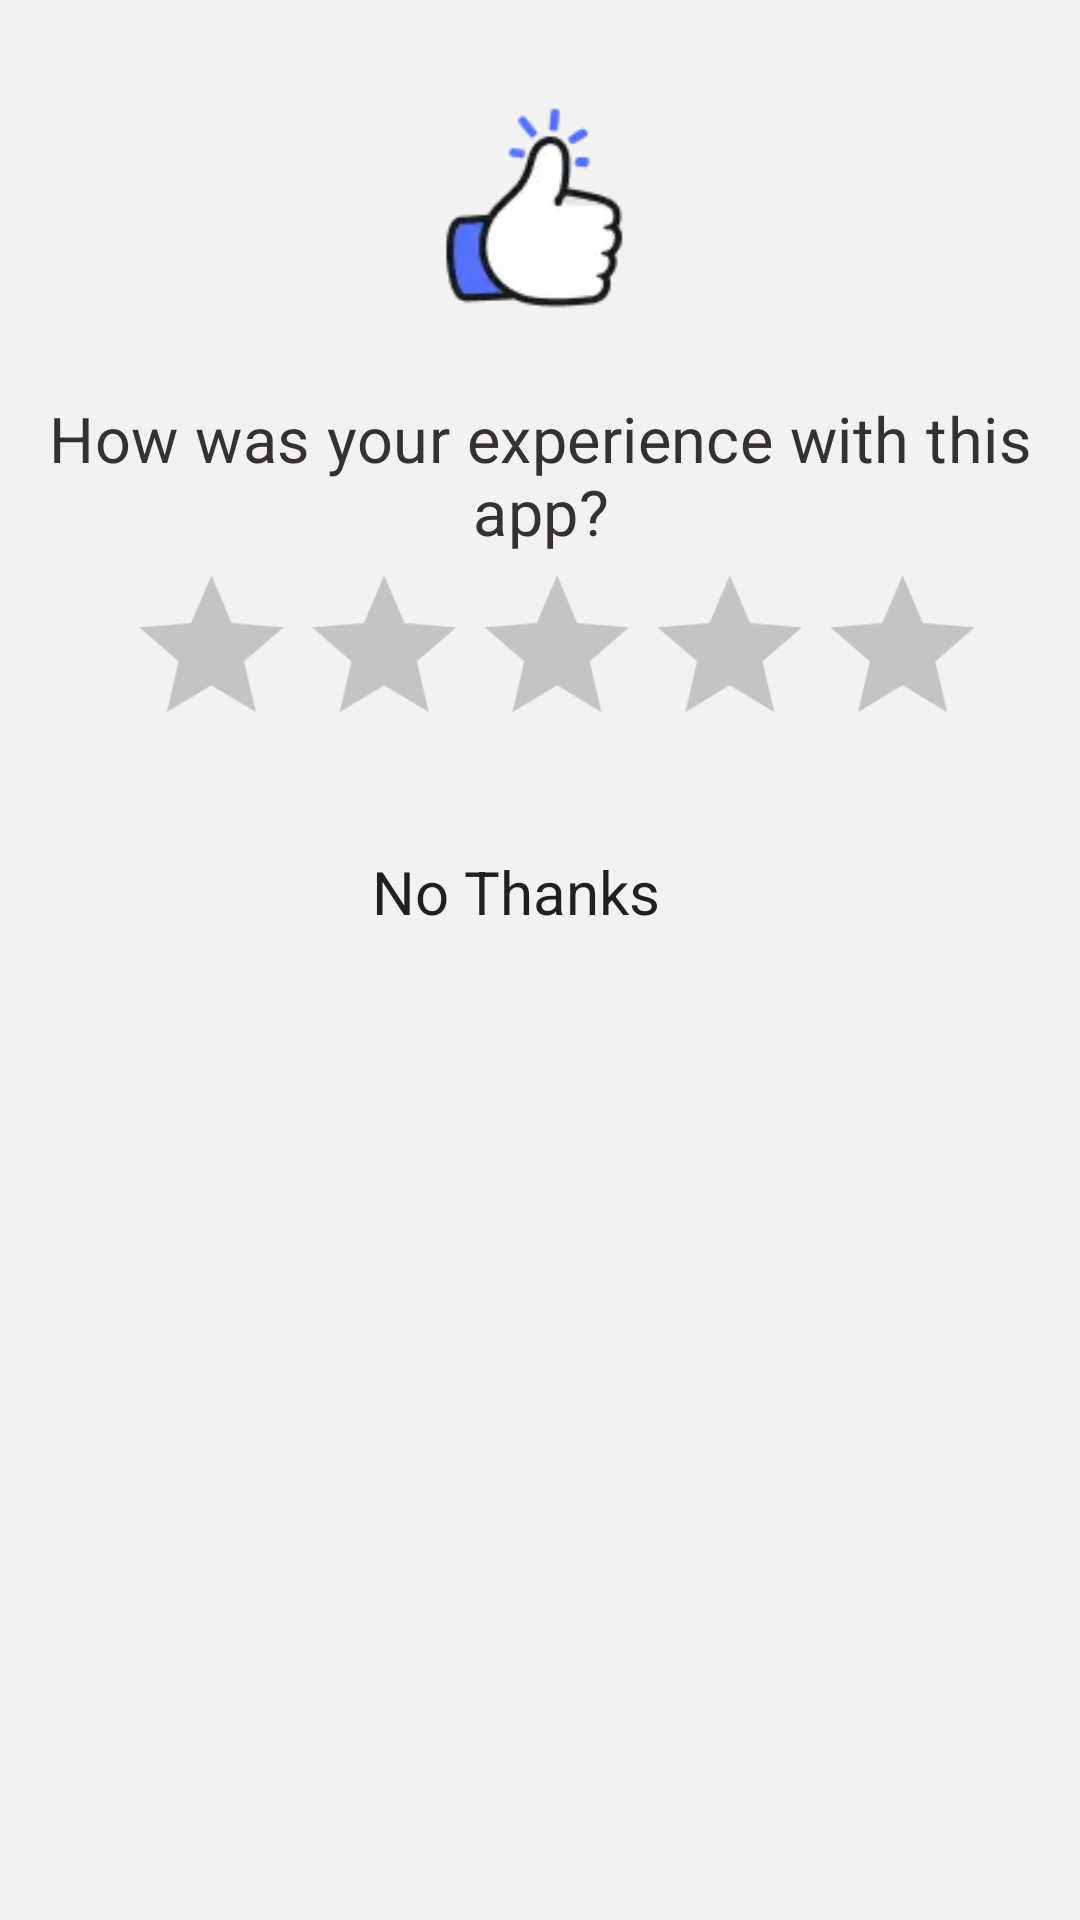

Screen size 1080*1920. Icon name, then its box in pixels as (x1, y1, x2, y2):
thumbs up: (446, 108, 623, 308)
